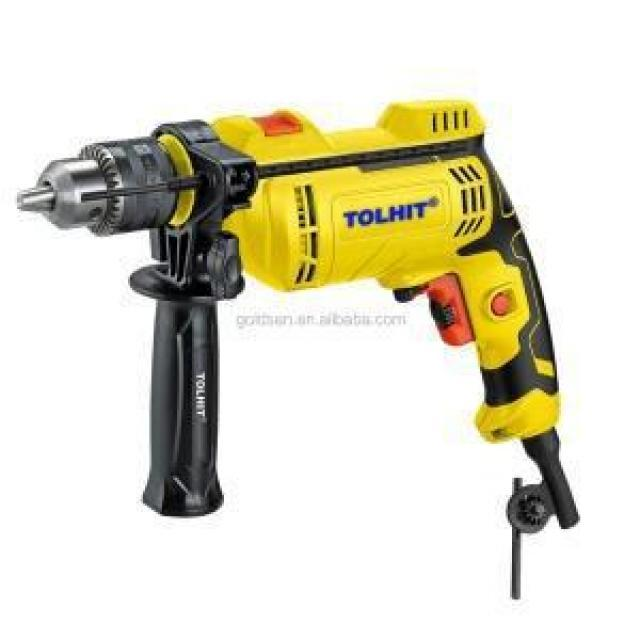drill: (14, 97, 582, 534)
